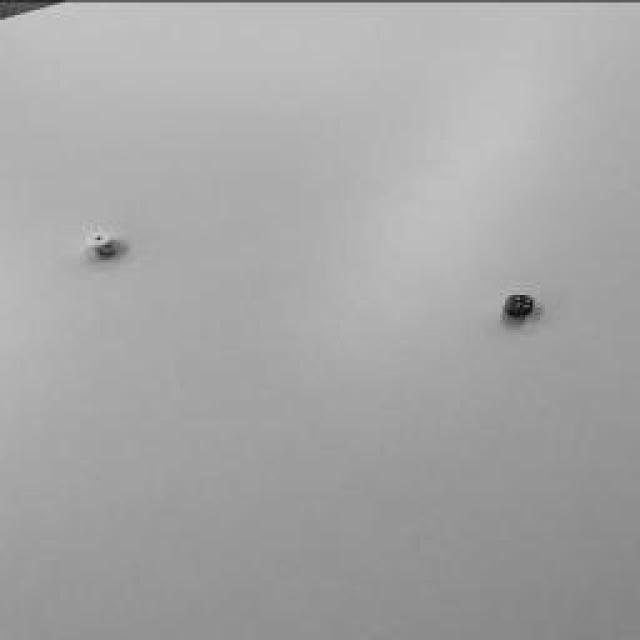dice_1: (86, 230, 112, 245)
dice_4: (511, 294, 534, 311)
